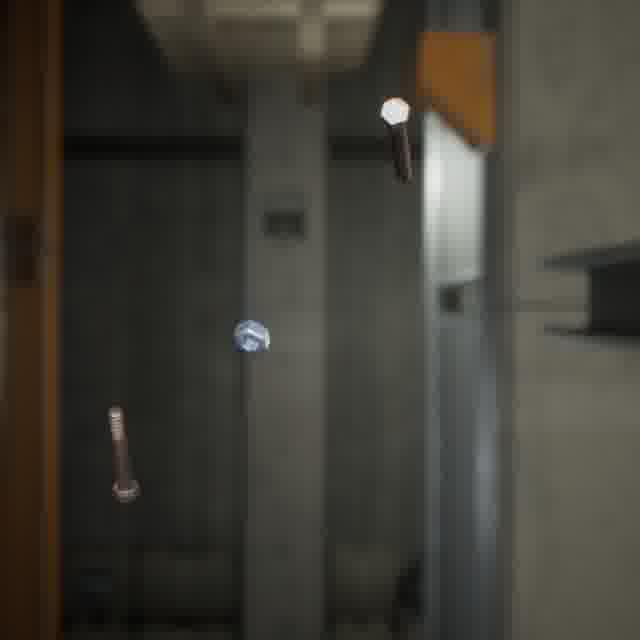bolt: (104, 402, 144, 506), (375, 93, 416, 186)
nut: (229, 315, 274, 359)
